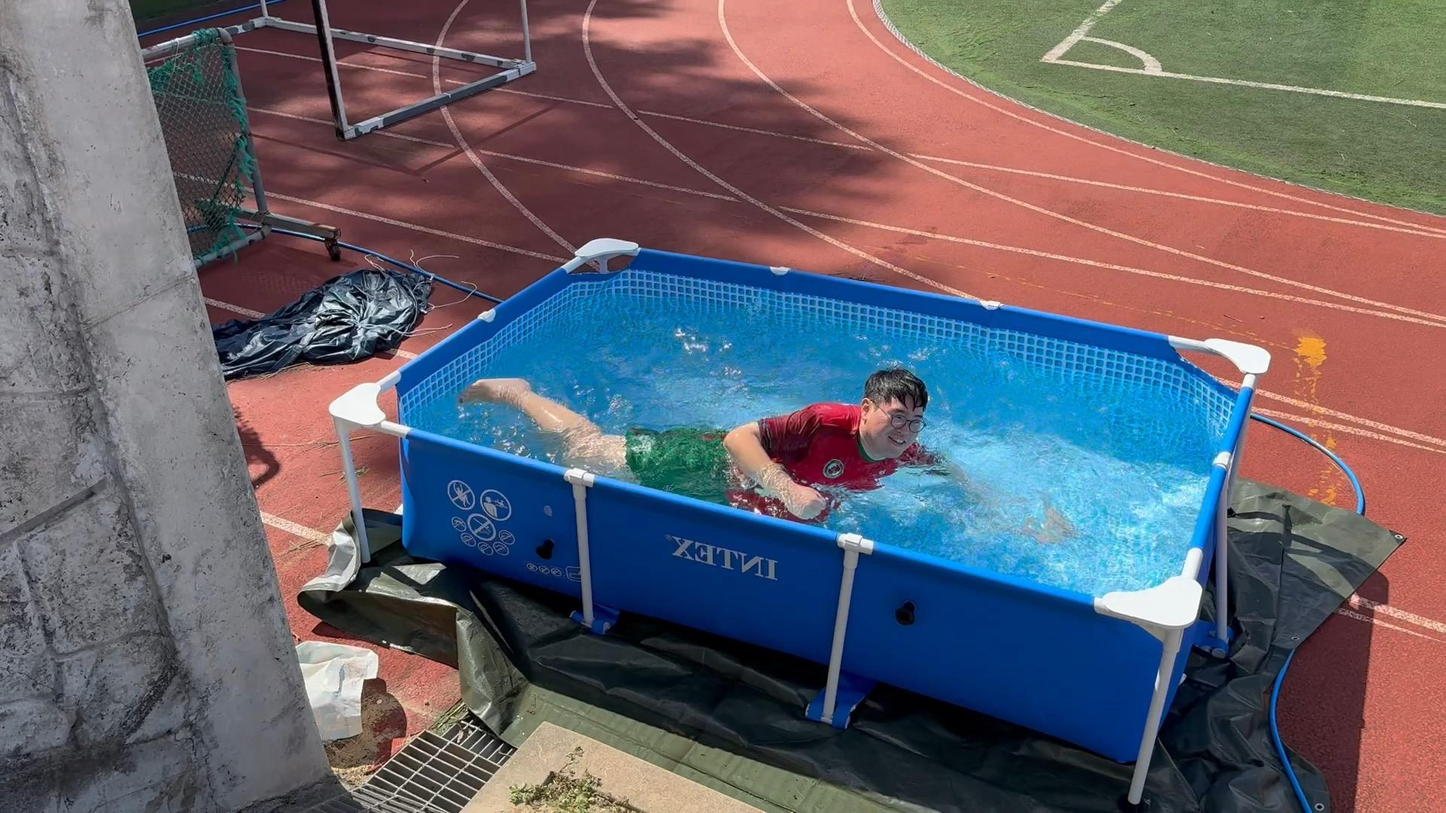Swimming: (446, 306, 1080, 576)
